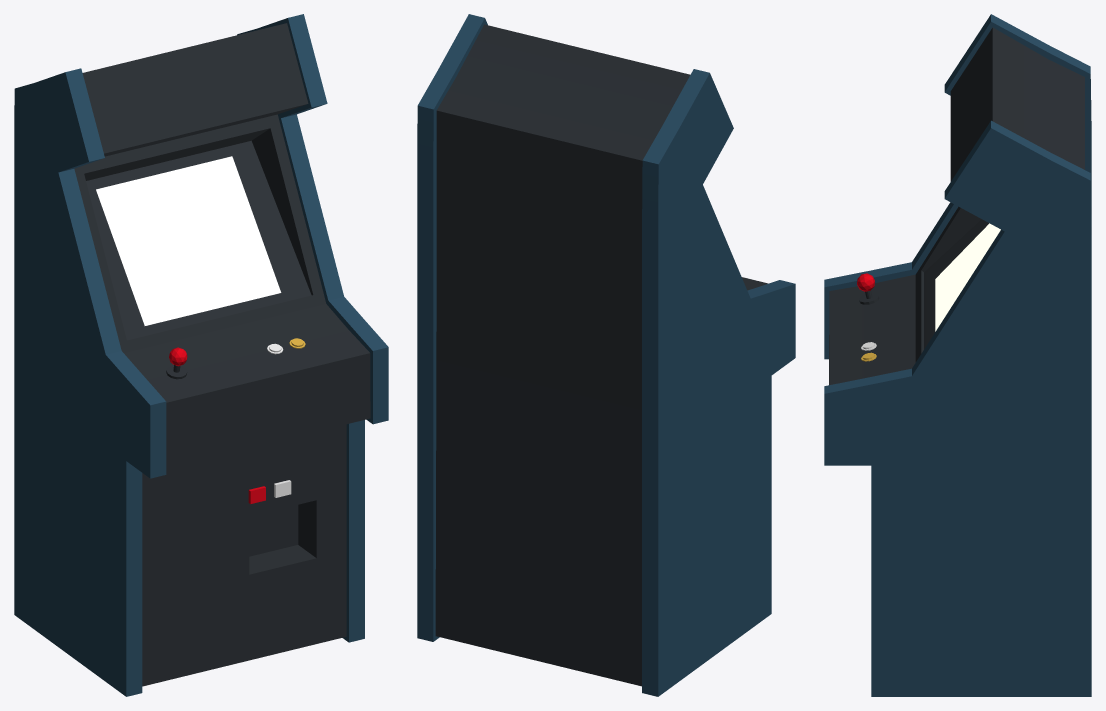
Rendered from arcademachine_obj.fbx.
The picture shows the model from 3 angles, left to right: view 1: azimuth 30°, elevation 25°; view 2: azimuth 150°, elevation 25°; view 3: azimuth 270°, elevation 25°; orthographic projection. The views are drawn at different scales.
Parts seen in each view (by area): view 1: arcademachine; view 2: arcademachine; view 3: arcademachine.
Part boxes in pixels (bbox=[...]): arcademachine: bbox=[14, 14, 388, 696]; arcademachine: bbox=[417, 14, 795, 696]; arcademachine: bbox=[824, 14, 1091, 696].
Size of the model in its own units: 215 by 499 by 212.
